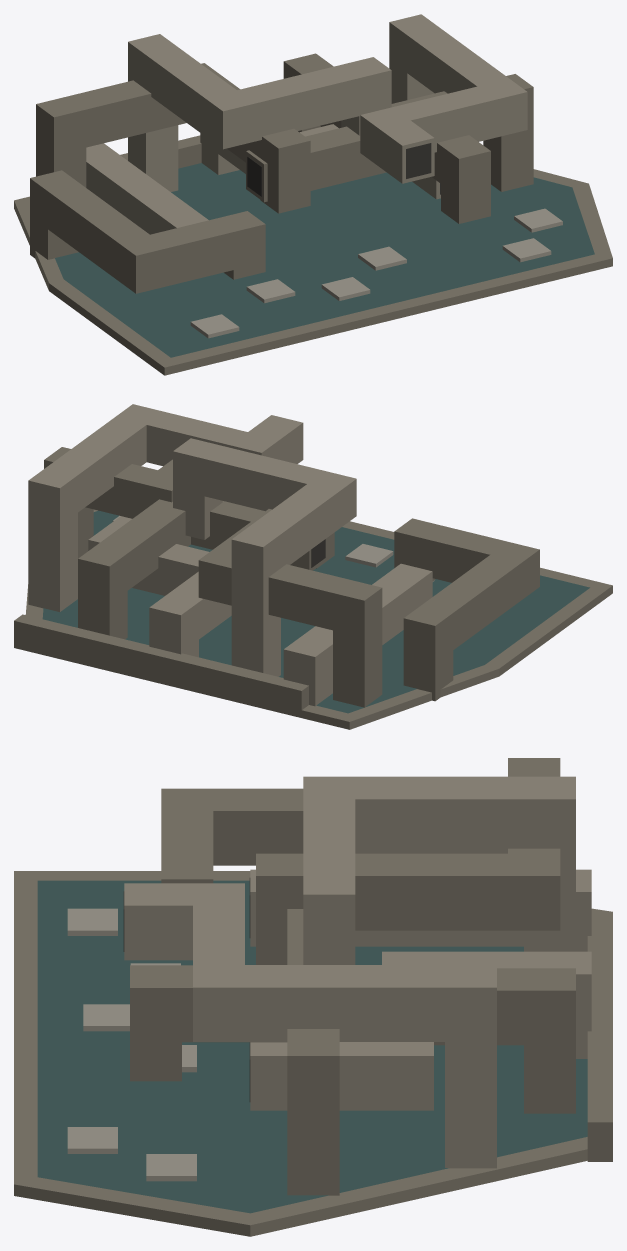
Rendered from vaillancourt_fountain.glb.
3 views of the same model, one above another, from view 1: azimuth 30°, elevation 25°; view 2: azimuth 150°, elevation 25°; view 3: azimuth 270°, elevation 25° (orthographic). The views are drawn at different scales.
Parts seen in each view (by area): view 1: vaillancourt_fountain; view 2: vaillancourt_fountain; view 3: vaillancourt_fountain.
Boxes of the visible parts, box(x1,y1,x2,y2) form: vaillancourt_fountain: box(14, 14, 612, 375); vaillancourt_fountain: box(14, 404, 612, 729); vaillancourt_fountain: box(14, 758, 612, 1236).
Bounding box in the file's own units: 42 × 12 × 30.
1 material, 1 textured.
